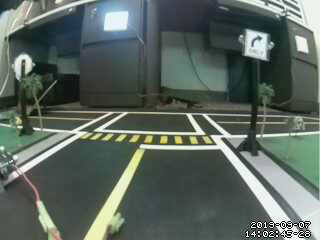Right_only_sign: (242, 26, 271, 59)
